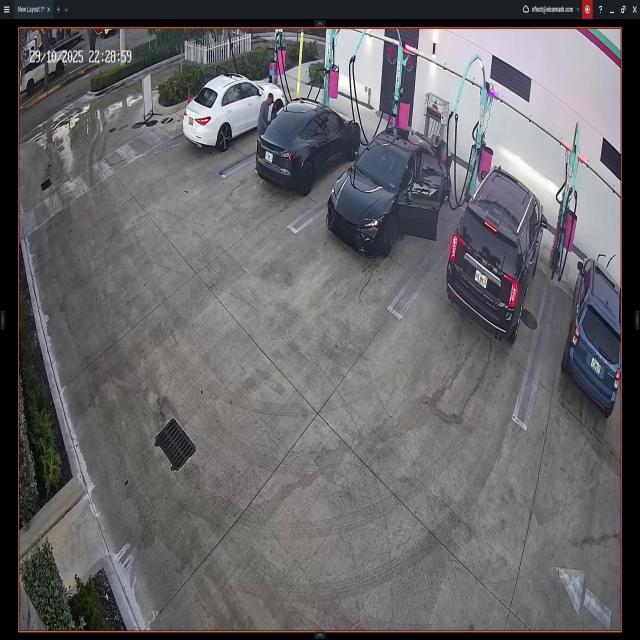Car: (449, 163, 547, 342), (327, 123, 452, 257), (561, 257, 619, 416), (257, 103, 360, 192), (185, 70, 286, 150)
